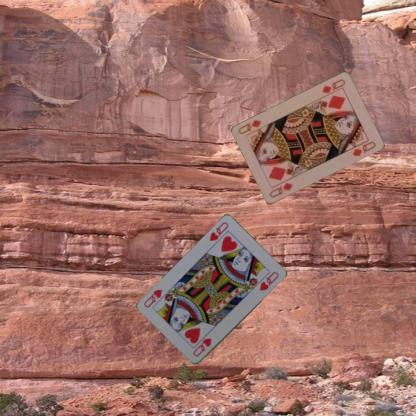Qd: (320, 76, 347, 100), (267, 180, 293, 199)
Qh: (207, 220, 229, 243), (190, 336, 212, 358)
